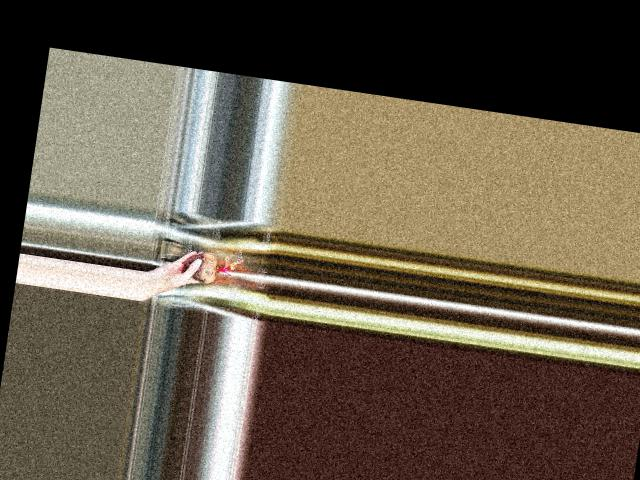beet: (181, 248, 243, 287)
